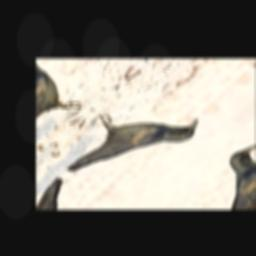Crow: (48, 88, 208, 198)
